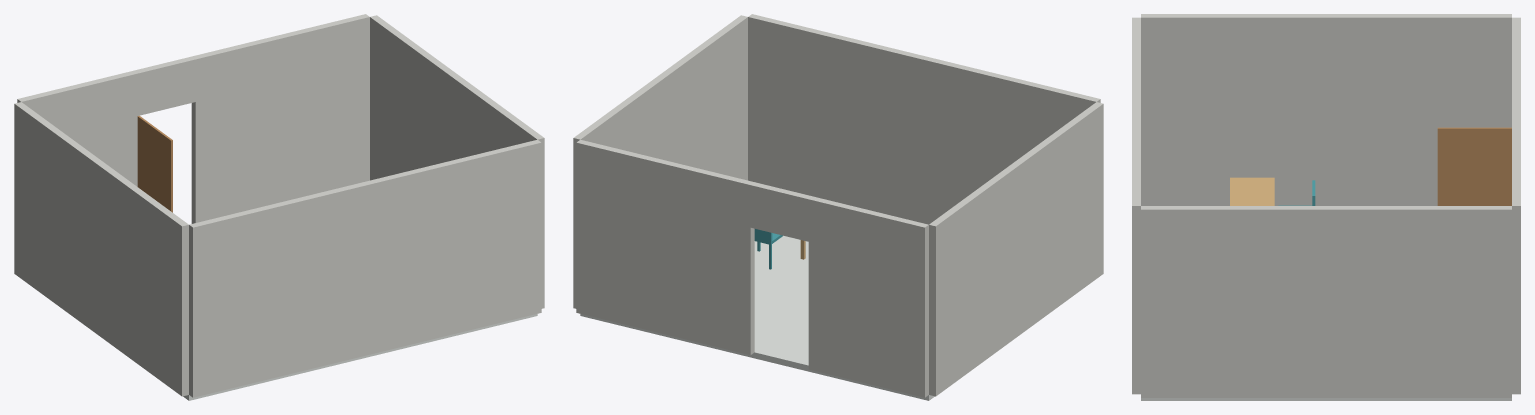
The model's file is delete-object.glb.
3 renders of one model, left to right at view 1: azimuth 30°, elevation 25°; view 2: azimuth 150°, elevation 25°; view 3: azimuth 270°, elevation 25°, orthographic. The views are drawn at different scales.
Visible parts, largest first — view 1: room:north:full, room:west:full, room:south:high, room:east:full, room:south:low, room:south:lintel, door:leaf, room:floor; view 2: room:north:full, room:south:high, room:west:full, room:south:low, room:east:full, room:floor, room:south:lintel; view 3: room:east:full, room:west:full, door:leaf, room:north:full, room:south:high, manual-a:table:top, room:floor, room:south:low.
Part boxes in pixels (x1,y1,x2,y2): room:north:full: [189, 139, 541, 397]; room:west:full: [14, 102, 188, 396]; room:south:high: [191, 14, 369, 223]; room:east:full: [370, 15, 544, 308]; room:south:low: [17, 70, 137, 186]; room:south:lintel: [134, 56, 195, 115]; door:leaf: [137, 115, 172, 212]; room:floor: [183, 314, 537, 400]; room:north:full: [748, 14, 1100, 224]; room:south:high: [576, 139, 754, 355]; room:west:full: [929, 102, 1103, 396]; room:south:low: [808, 196, 928, 397]; room:east:full: [573, 15, 747, 308]; room:floor: [580, 235, 934, 400]; room:south:lintel: [750, 182, 812, 241]; room:east:full: [1141, 206, 1511, 397]; room:west:full: [1141, 14, 1511, 205]; door:leaf: [1437, 127, 1511, 205]; room:north:full: [1132, 17, 1140, 394]; room:south:high: [1512, 112, 1520, 394]; manual-a:table:top: [1230, 177, 1274, 205]; room:floor: [1141, 398, 1511, 400]; room:south:low: [1512, 17, 1520, 80].
Size of the model in its own units: 6.24 by 2.9 by 5.24.
